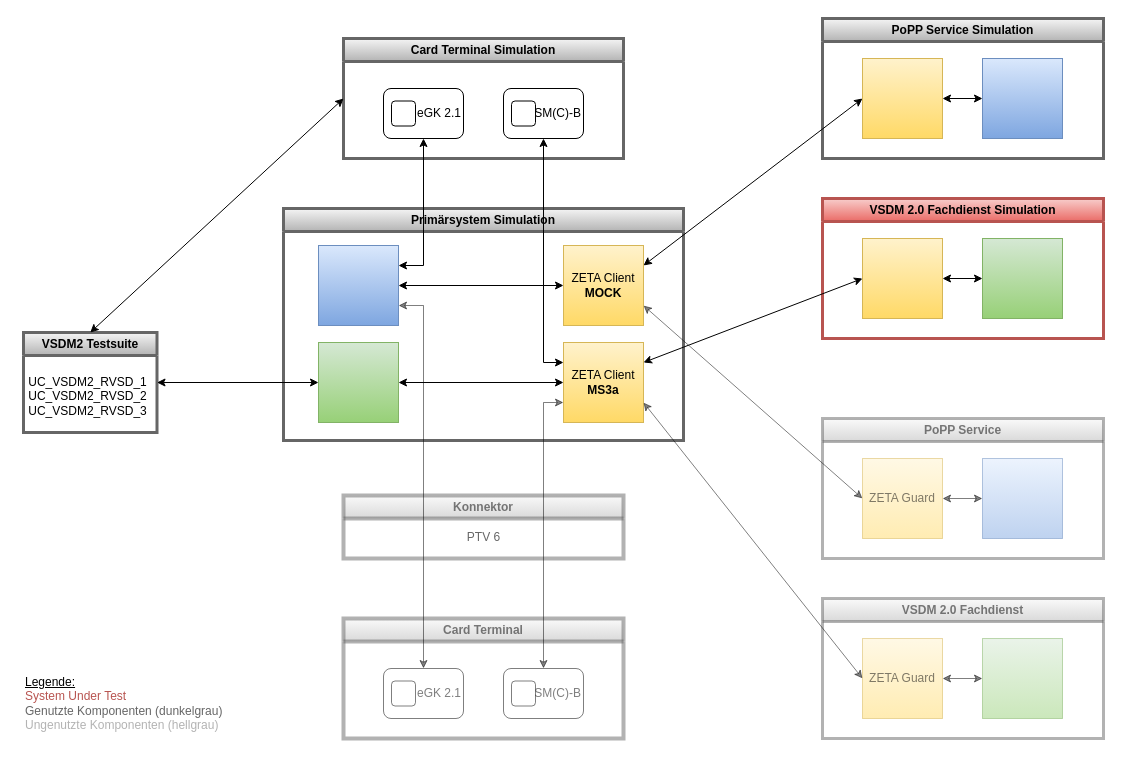
The diagram is 1122 pixels wide and 758 high, and some of its shapes have lost their labels. Here are the shapes that lost their labels. From the top down, the centre of each, then its label:
At (902,98): "ZETA Guard MOCK".
At (1022,98): "PoPP Ressource Server MOCK".
At (358,285): "PoPP Client Simulator".
At (902,278): "ZETA Guard MS3a".
At (1022,278): "VSDM Ressource Server Simulator".
At (358,382): "VSDM Client Simulator".
At (1022,498): "PoPP Ressource Server".
At (1022,678): "VSDM Ressource Server".
